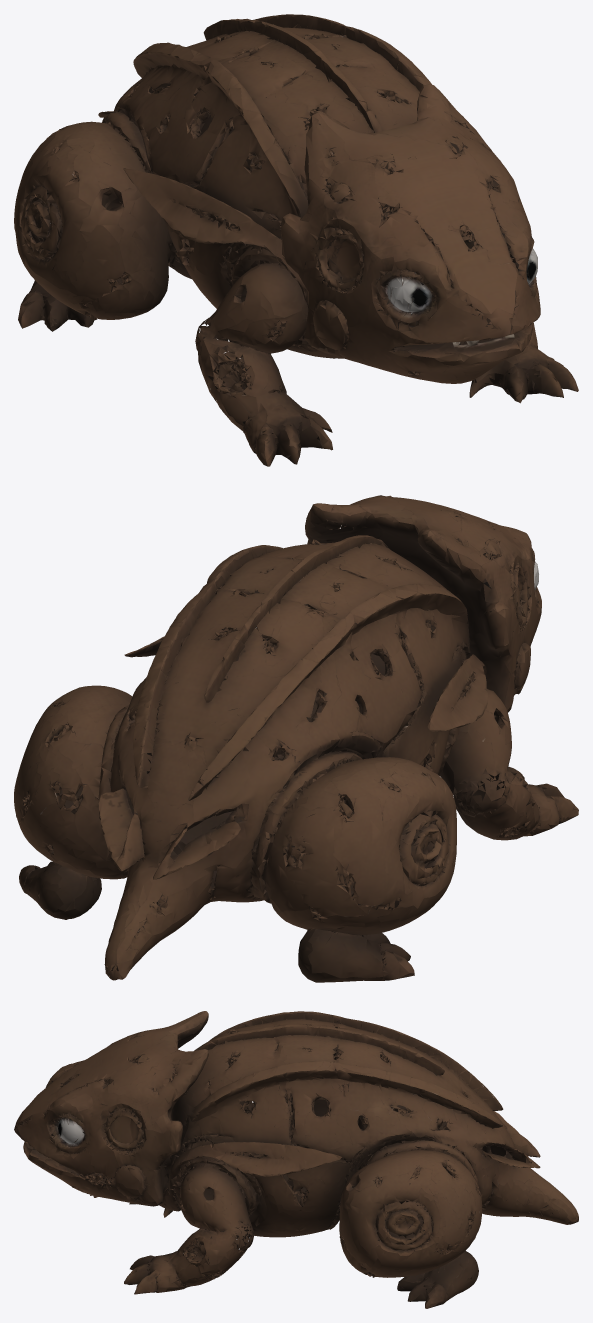
The model's file is lirm-armature-22__basin-22-s1p50-n00-p046-lineage-seed-seed717046.glb.
3 views of the same model, one above another, from view 1: azimuth 30°, elevation 25°; view 2: azimuth 150°, elevation 25°; view 3: azimuth 270°, elevation 25° (orthographic). The views are drawn at different scales.
Parts seen in each view (by area): view 1: world; view 2: world; view 3: world.
Boxes of the visible parts, x1=… form: world: x1=14, y1=14, x2=578, y2=466; world: x1=14, y1=495, x2=578, y2=982; world: x1=14, y1=1011, x2=578, y2=1308.
Bounding box in the file's own units: 0.5863 × 0.4256 × 0.9996.
1 material, 1 textured.
